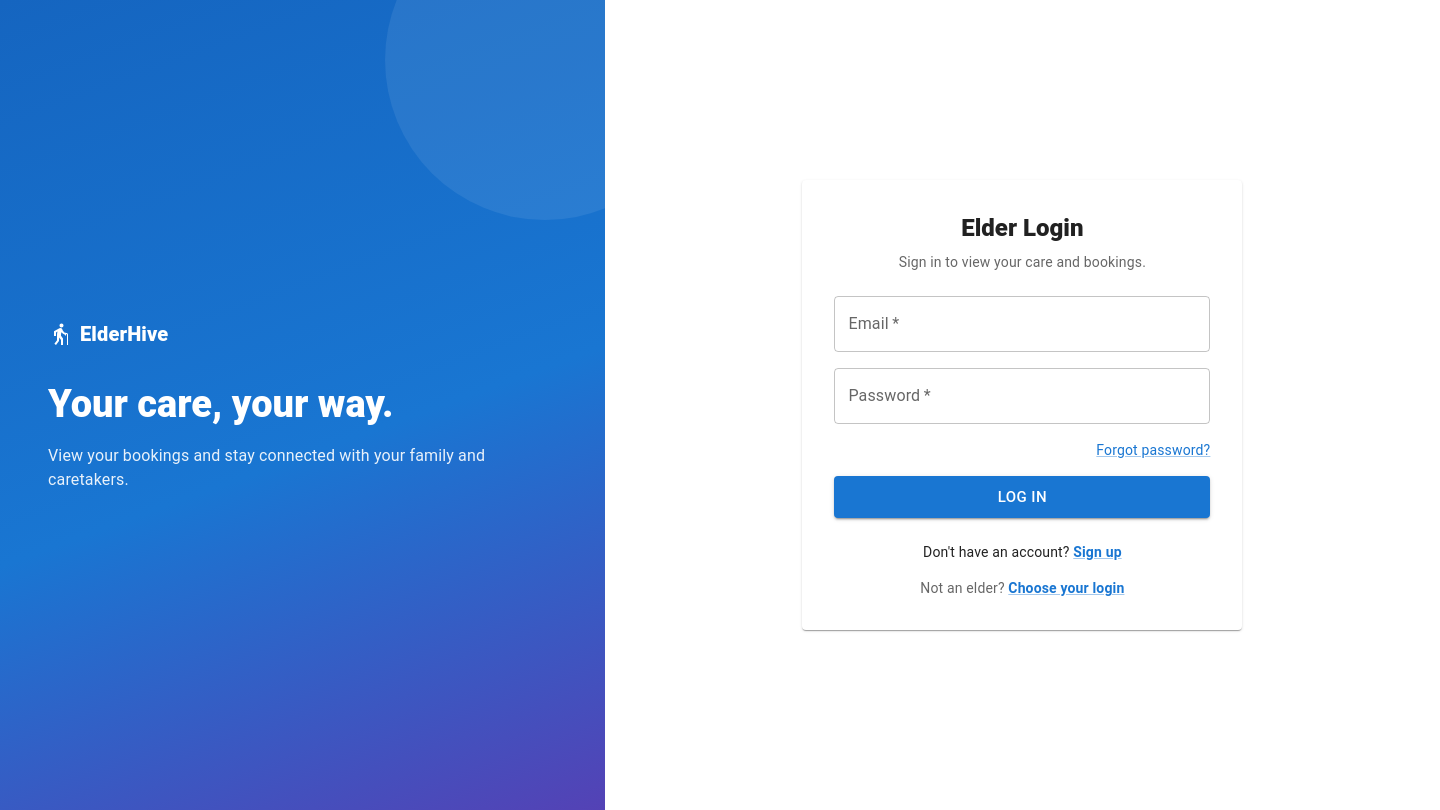
Test: RoleLoginPage › logs out and shows a rejection message when the account's primaryRole doesn't match this portal
Type "admin@example.com" into the field labelled "Email *" at (1022, 324), box 834,296 -> 1210,352
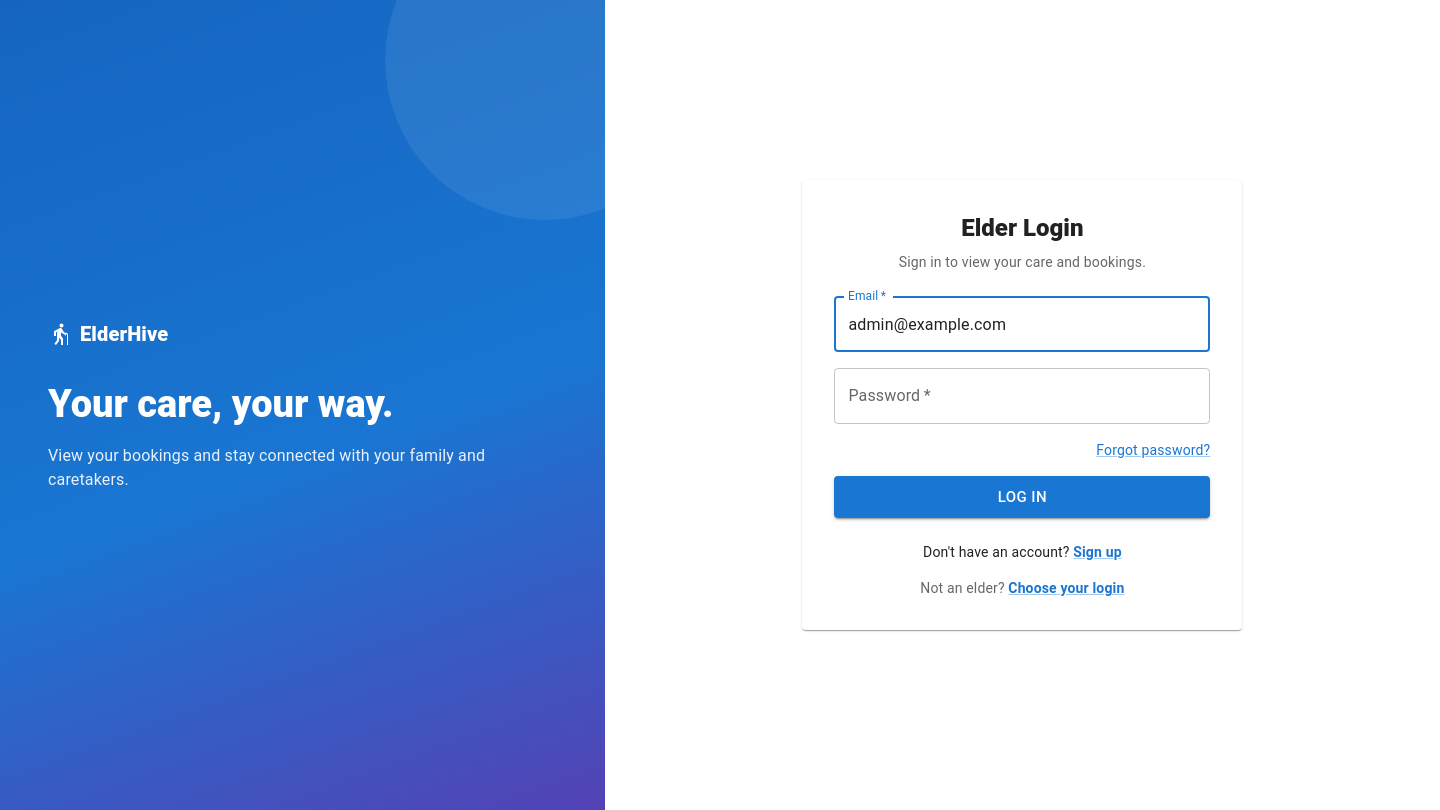
Type "strongpass123" into the password field labelled "Password *" at (1022, 396), box 834,368 -> 1210,424
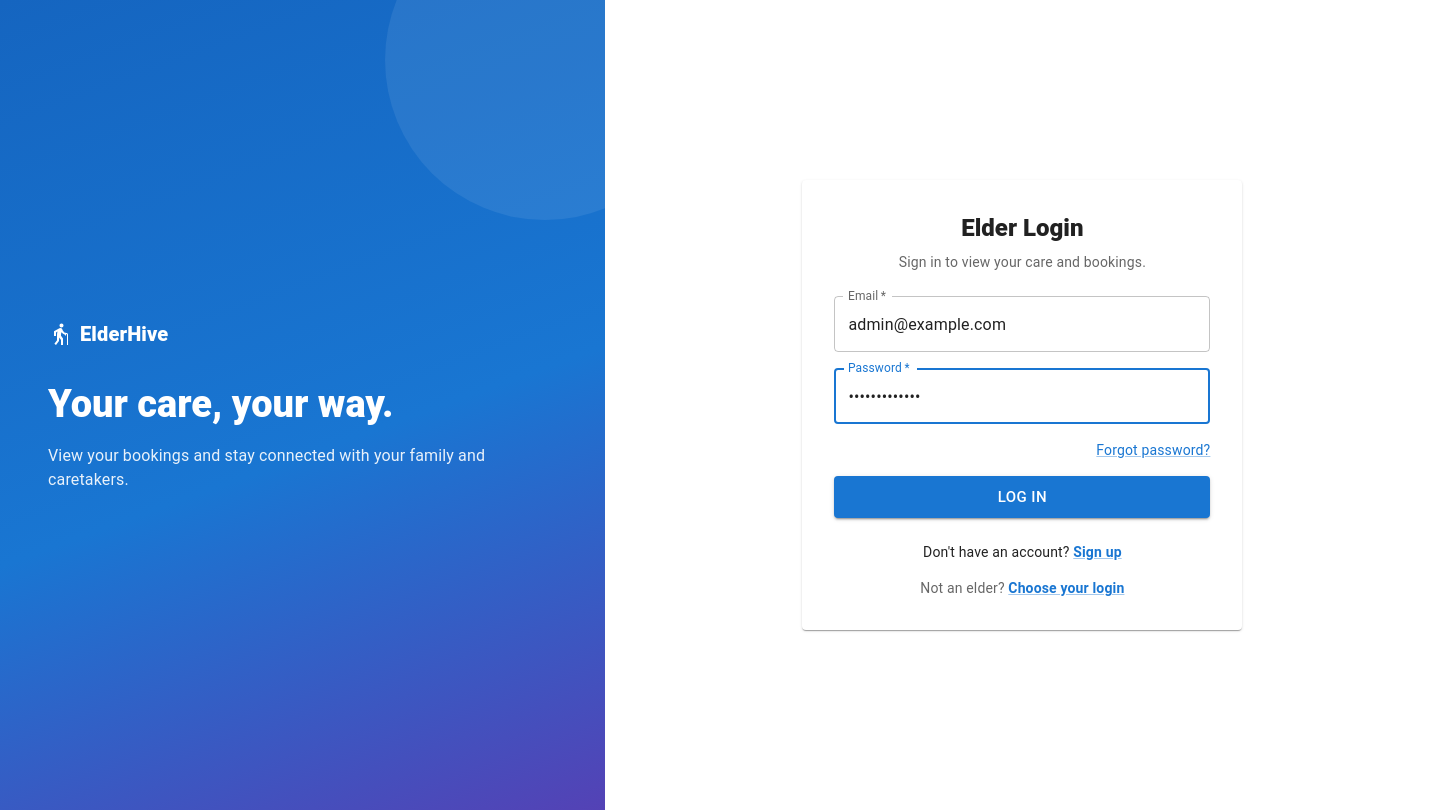
Click the button "Log In" at (1022, 497), box 834,476 -> 1210,518
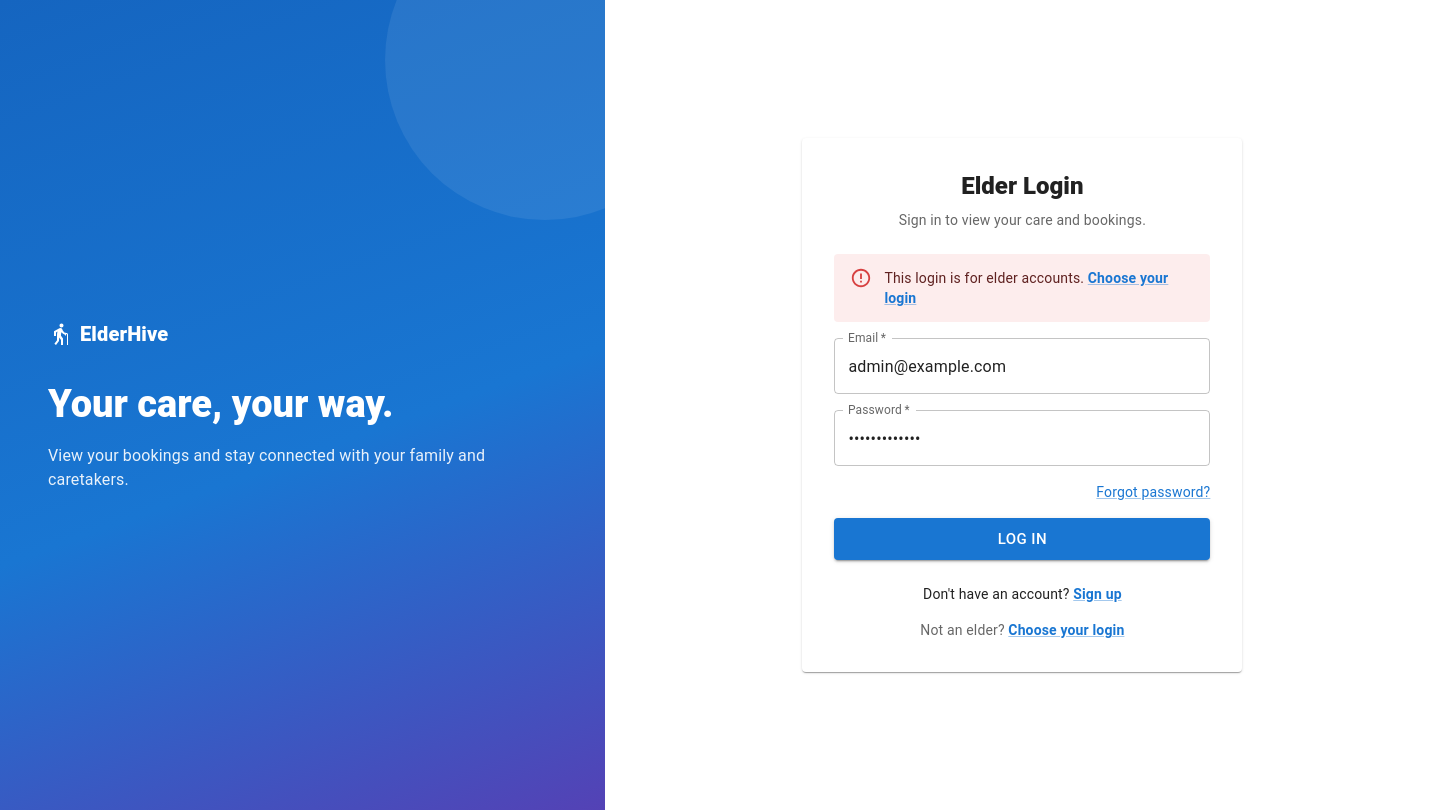
Expected: the text "This login is for elder accounts. Choose your login" is shown, 884,260 -> 1194,316
